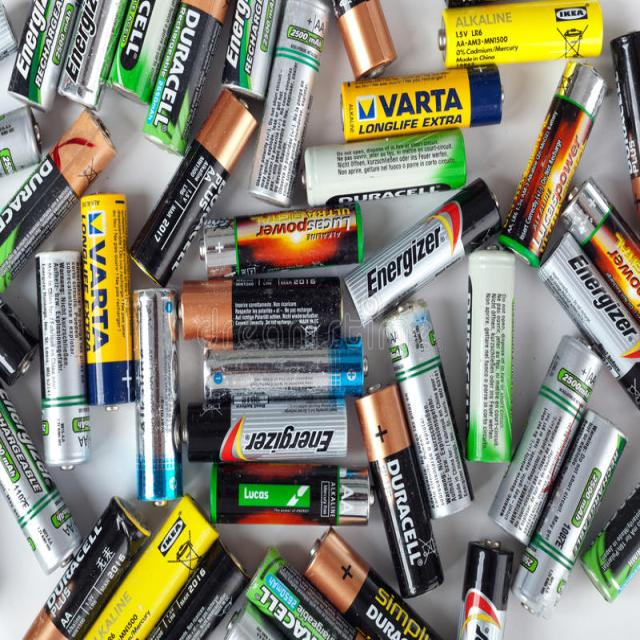Hazard: (13, 0, 640, 640)
